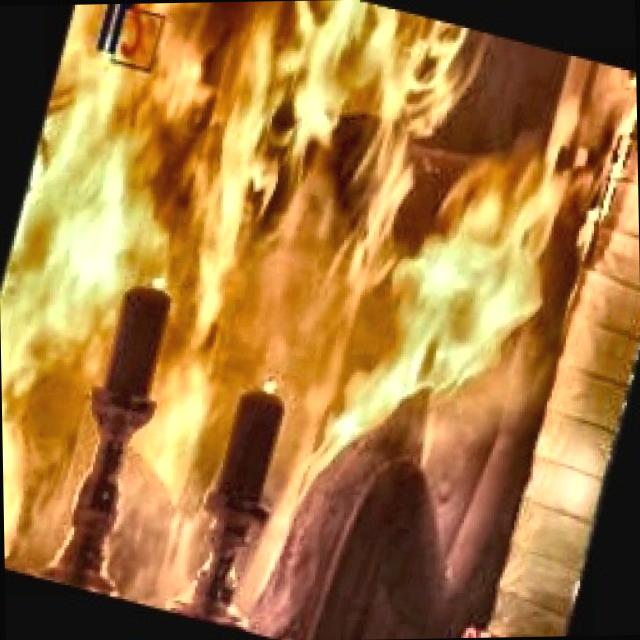fire: (0, 0, 613, 614)
